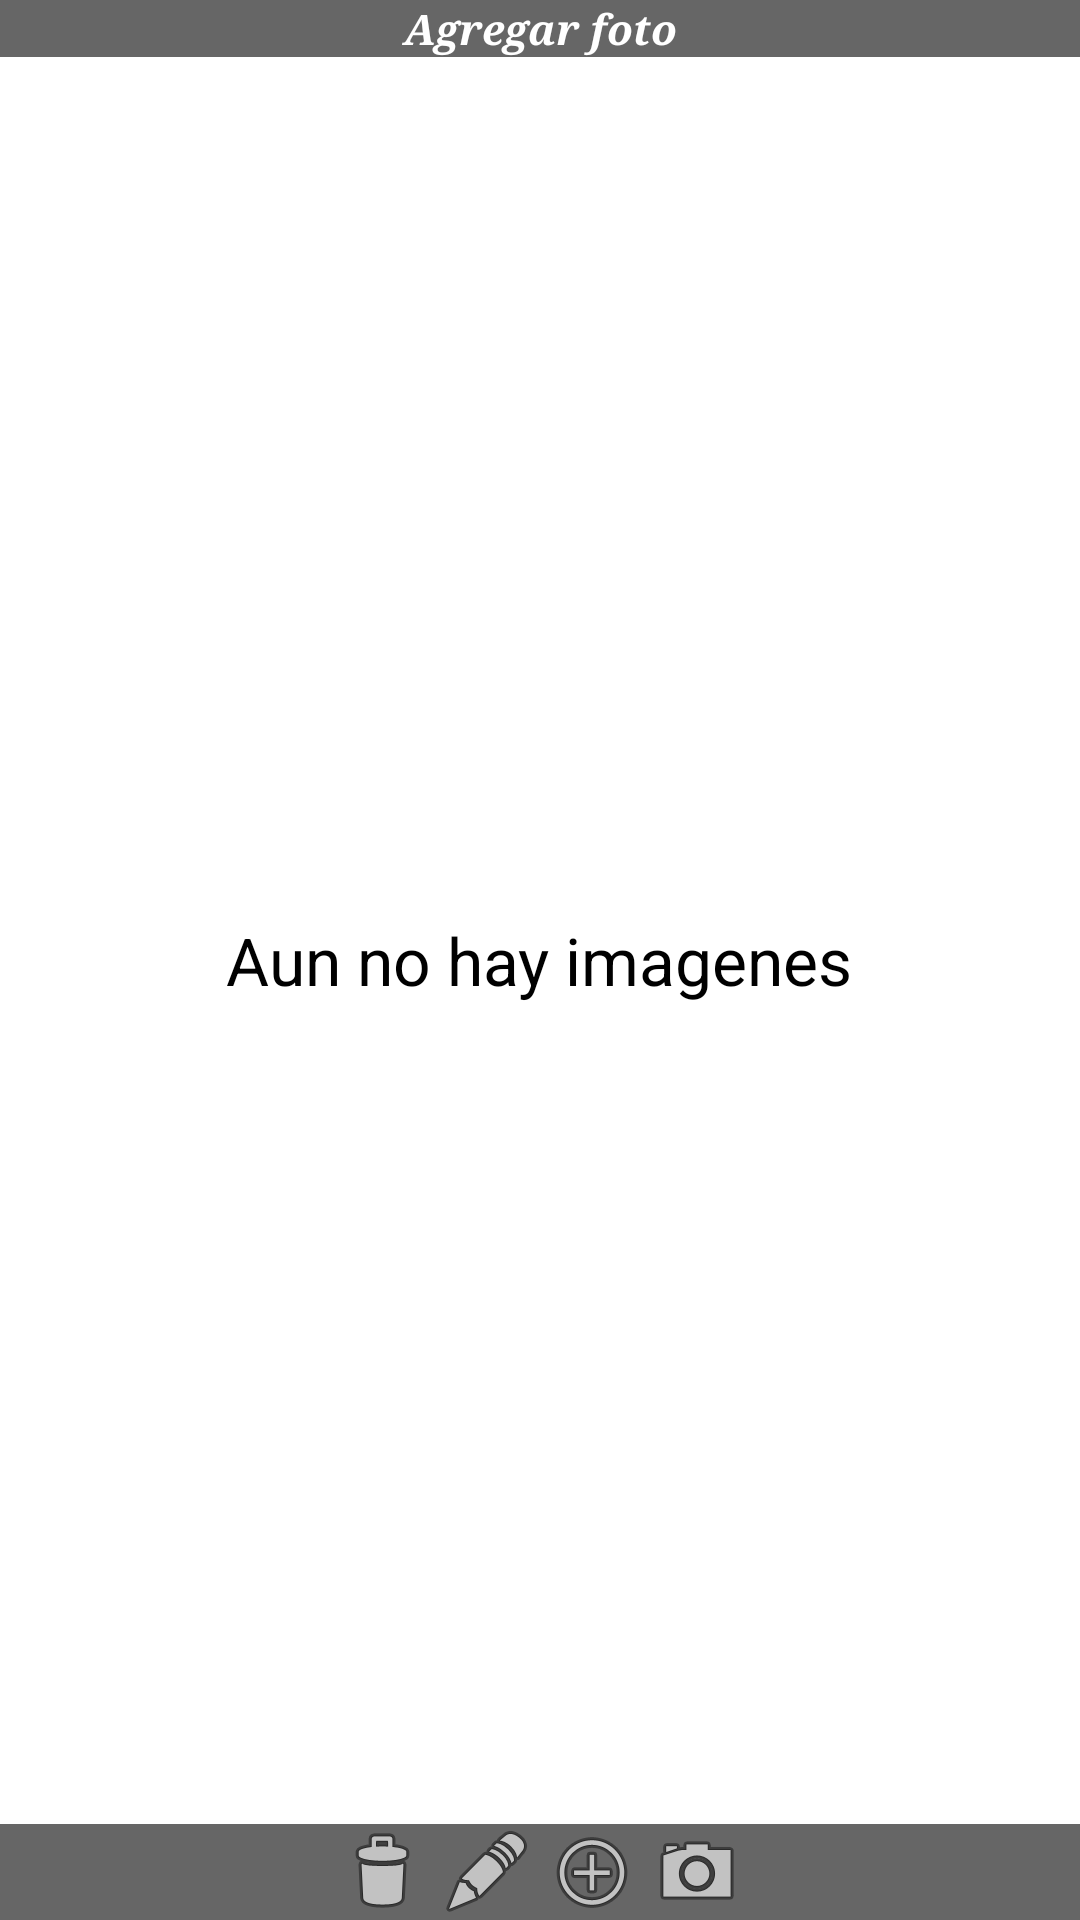

Where icons sit on this 1080x1920 app screen, as (x1, y1, x2, y2):
add: (557, 1837, 627, 1908)
camera: (660, 1841, 734, 1900)
delete: (356, 1833, 409, 1908)
edit: (446, 1831, 527, 1912)
